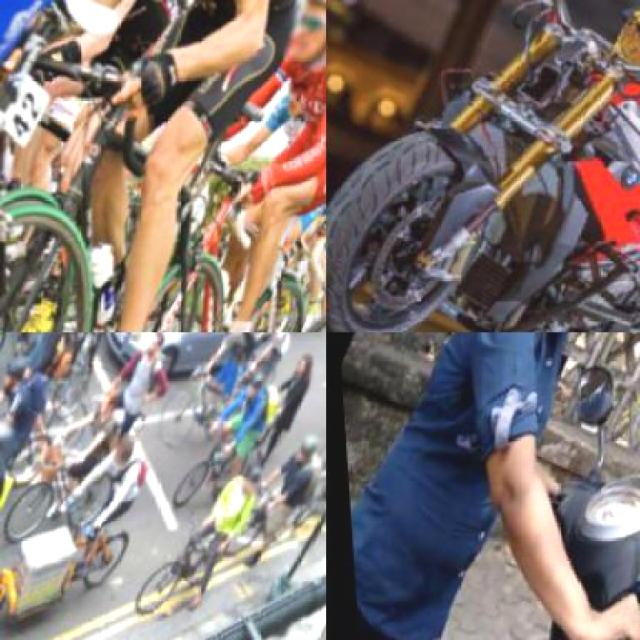With Helmet: (264, 0, 324, 82), (0, 348, 34, 404), (228, 460, 266, 505), (287, 429, 321, 471), (235, 367, 267, 410), (0, 408, 20, 472)
Without Helmet: (130, 332, 178, 371), (104, 433, 136, 470)
